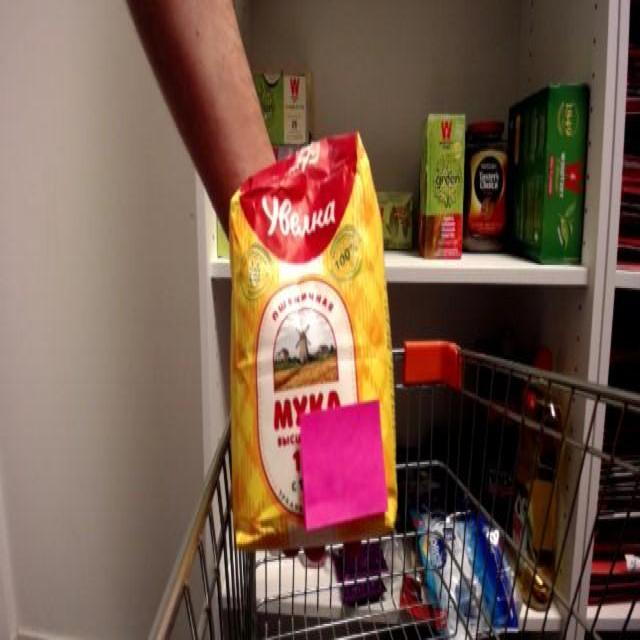Almond Milk: (224, 121, 403, 558)
